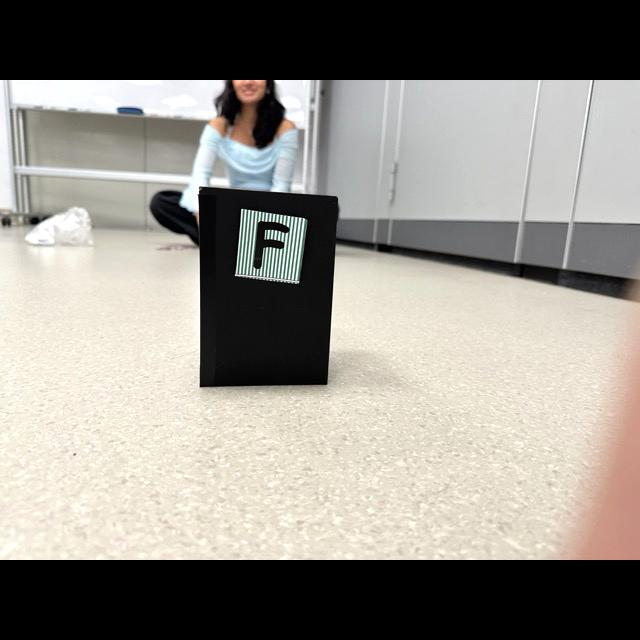F: (253, 221, 289, 268)
